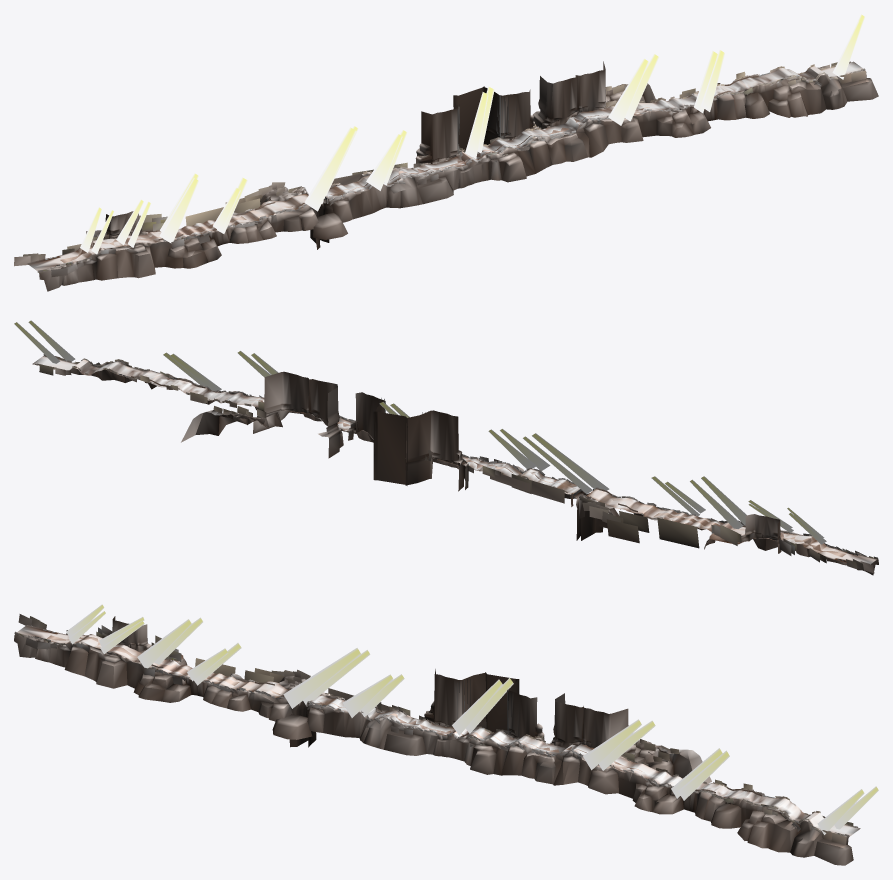
File: Forest_02.fbx
The picture shows the model from 3 angles, top to bottom: view 1: azimuth 30°, elevation 25°; view 2: azimuth 150°, elevation 25°; view 3: azimuth 330°, elevation 25°; orthographic projection.
Parts seen in each view (by area): view 1: Mountain_01, Light_01, Tree_01, Ground_01, Road_01; view 2: Mountain_01, Tree_01, Light_01, Ground_01, Road_01; view 3: Mountain_01, Light_01, Ground_01, Tree_01, Road_01.
Part boxes in pixels (box(x1,y1,x2,y2)): Mountain_01: box(39, 61, 878, 291); Light_01: box(80, 14, 864, 254); Tree_01: box(14, 61, 866, 276); Ground_01: box(27, 61, 862, 271); Road_01: box(60, 107, 649, 262); Mountain_01: box(39, 356, 878, 575); Tree_01: box(35, 354, 878, 573); Light_01: box(14, 320, 826, 544); Ground_01: box(32, 356, 876, 564); Road_01: box(70, 367, 845, 556); Mountain_01: box(14, 616, 853, 865); Light_01: box(66, 604, 878, 834); Ground_01: box(17, 625, 860, 836); Tree_01: box(14, 614, 857, 844); Road_01: box(47, 635, 642, 771).
Bounding box in the file's own units: 66063 × 7714 × 7486.
